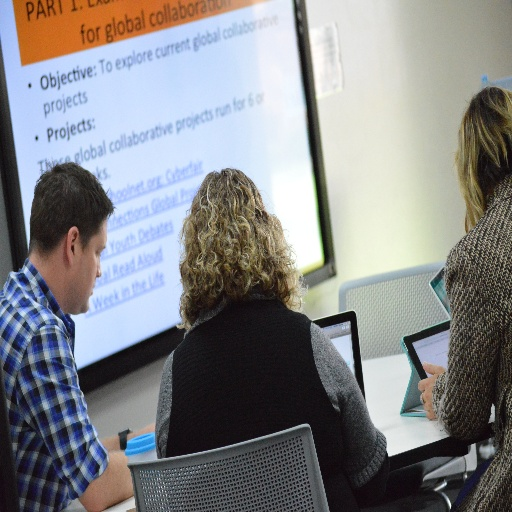hand: (418, 365, 456, 428)
